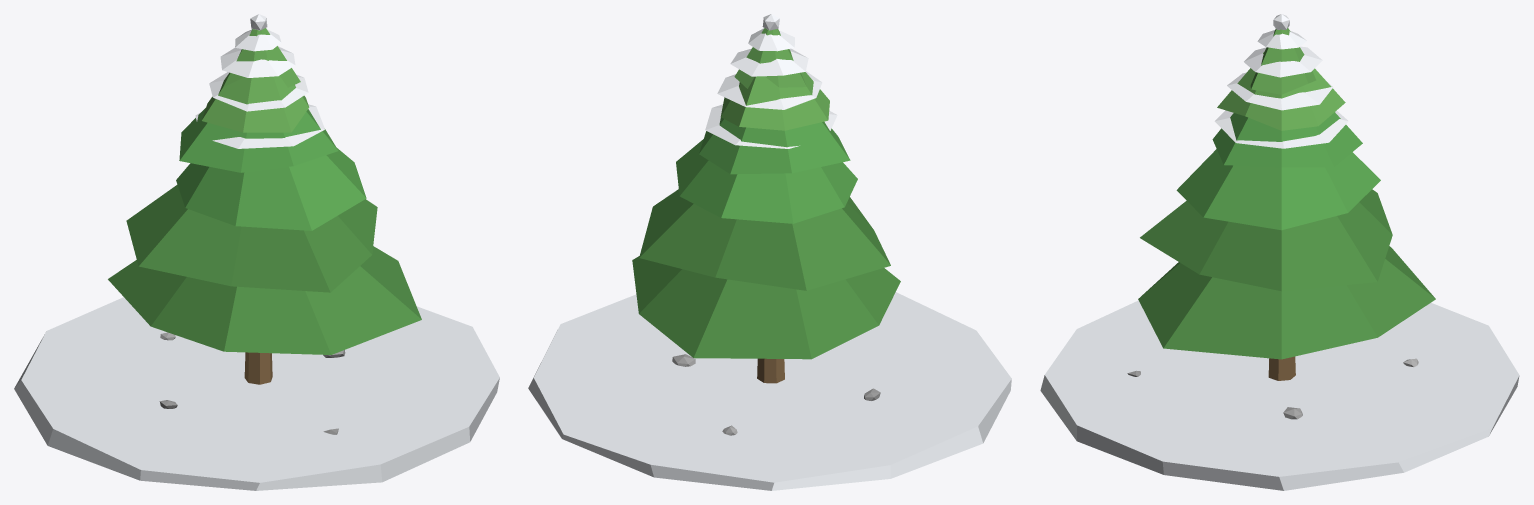
Rendered from tree.glb.
3 renders of one model, left to right at view 1: azimuth 30°, elevation 25°; view 2: azimuth 150°, elevation 25°; view 3: azimuth 270°, elevation 25°, orthographic.
Visible parts, largest first — view 1: SnowGround, Branches_0, Branches_1, Branches_2, Branches_3, Branches_4, SnowCap_4, SnowCap_2, SnowCap_3, Branches_5, Trunk, SnowCap_5; view 2: SnowGround, Branches_0, Branches_1, Branches_2, Branches_3, Branches_4, SnowCap_4, Branches_5, SnowCap_3, SnowCap_2, SnowCap_5, Trunk; view 3: SnowGround, Branches_0, Branches_1, Branches_2, Branches_3, Branches_4, Branches_5, SnowCap_3, SnowCap_2, SnowCap_4, SnowCap_5, Trunk.
Part boxes in pixels (x1,y1,x2,y2): SnowGround: (14, 297, 499, 490); Branches_0: (108, 246, 421, 354); Branches_1: (126, 184, 377, 292); Branches_2: (176, 148, 366, 230); Branches_3: (179, 108, 338, 172); Branches_4: (201, 58, 309, 132); SnowCap_4: (220, 46, 295, 77); SnowCap_2: (195, 104, 324, 148); SnowCap_3: (209, 72, 308, 111); Branches_5: (223, 28, 300, 87); Trunk: (244, 352, 272, 384); SnowCap_5: (235, 29, 281, 51); SnowGround: (528, 292, 1011, 490); Branches_0: (632, 256, 900, 359); Branches_1: (639, 189, 890, 290); Branches_2: (676, 139, 857, 223); Branches_3: (699, 117, 850, 174); Branches_4: (720, 72, 829, 130); SnowCap_4: (730, 48, 808, 76); Branches_5: (734, 28, 806, 88); SnowCap_3: (717, 71, 822, 109); SnowCap_2: (705, 104, 837, 148); SnowCap_5: (748, 28, 794, 51); Trunk: (757, 358, 784, 383); SnowGround: (1040, 300, 1519, 490); Branches_0: (1138, 246, 1435, 359); Branches_1: (1140, 189, 1392, 291); Branches_2: (1176, 149, 1380, 230); Branches_3: (1212, 112, 1362, 167); Branches_4: (1217, 52, 1345, 130); Branches_5: (1250, 28, 1316, 94); SnowCap_3: (1227, 72, 1333, 110); SnowCap_2: (1214, 110, 1348, 148); SnowCap_4: (1244, 46, 1322, 77); SnowCap_5: (1257, 30, 1306, 49); Trunk: (1268, 356, 1295, 380).
Size of the model in its own units: 6.07 by 5.19 by 5.99.
